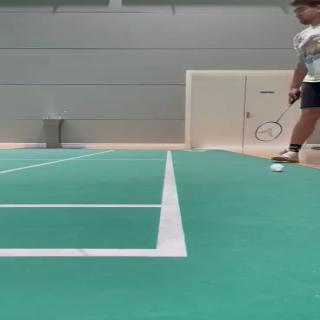Shuttle: (270, 164, 284, 172)
